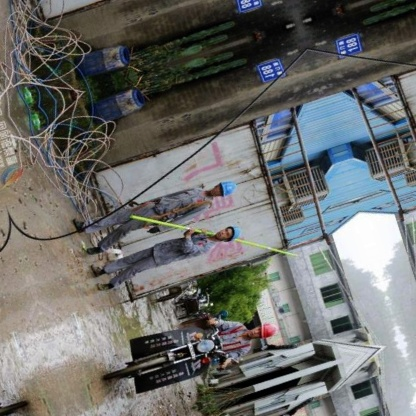blue: (222, 221, 247, 246), (218, 177, 242, 199)
red: (257, 320, 284, 343)
